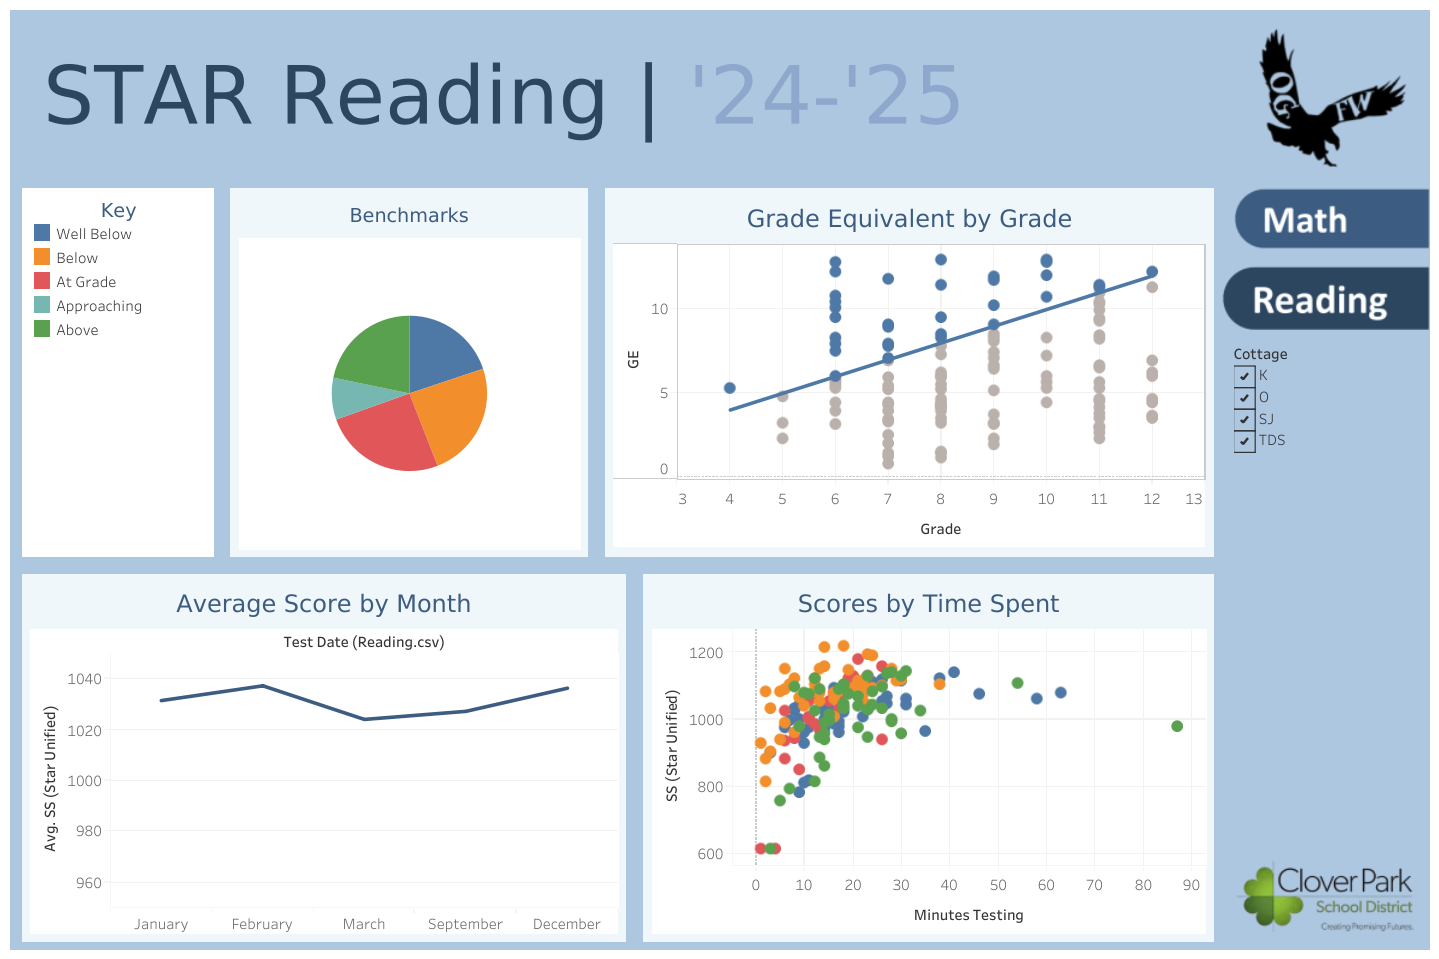

What the dashboard file says about the page in this screenshot:
{"tool":"tableau","page":{"name":"Reading Dashboard","canvas":[1200,800],"ordinal":1},"visuals":[{"type":"text","box":[8,8,1011,142]},{"type":"image","param":"Image/OGFW_Logo-removebg-preview.png","box":[1019,8,173,142]},{"type":"legend","title":"Reading 4","param":"[federated.0cm7wmj0uzxrbi17ib6pj0777q2k].[none:Benchmark Category (Reading.csv):","box":[8,150,177,321]},{"type":"worksheet","title":"Reading 4","mark":"Pie","box":[185,150,312,321]},{"type":"worksheet","title":"Reading 2","mark":"Automatic","rows":["GE (Reading.csv)","Calculation_685954575593689098"],"cols":["Grade (Reading.csv)"],"box":[497,150,522,321]},{"type":"dashboard-object","box":[1019,150,173,65]},{"type":"dashboard-object","box":[1019,215,173,67]},{"type":"blank","box":[1019,282,173,132]},{"type":"filter","title":"Reading 1","param":"[federated.0cm7wmj0uzxrbi17ib6pj0777q2k].[none:Cottage:nk]","box":[1028,288,155,201]},{"type":"blank","box":[1019,414,173,289]},{"type":"worksheet","title":"Reading 3","mark":"Automatic","rows":["SS (Star Unified) (Reading.csv)"],"cols":["Test Date (Reading.csv)"],"box":[8,471,521,321]},{"type":"worksheet","title":"Reading 1","mark":"Automatic","rows":["SS (Star Unified) (Reading.csv)"],"cols":["Test Min (Reading.csv)"],"box":[529,471,489.9,321]},{"type":"image","param":"Image/CPSD_logo-removebg-preview.png","box":[1019,703,173,89]}]}

Visuals, with their boxes in screenshot pixels (x1, y1, x2, y2), scaled from the page's 1200x800 canvas onto the 1439x959 screenshot:
text: 10 10 1222 180
image: 1222 10 1429 180
"Reading 4" legend: 10 180 222 565
"Reading 4" worksheet (Pie marks): 222 180 596 565
"Reading 2" worksheet: 596 180 1222 565
dashboard-object: 1222 180 1429 258
dashboard-object: 1222 258 1429 338
blank: 1222 338 1429 496
"Reading 1" filter: 1233 345 1419 586
blank: 1222 496 1429 843
"Reading 3" worksheet: 10 565 634 949
"Reading 1" worksheet: 634 565 1222 949
image: 1222 843 1429 949
